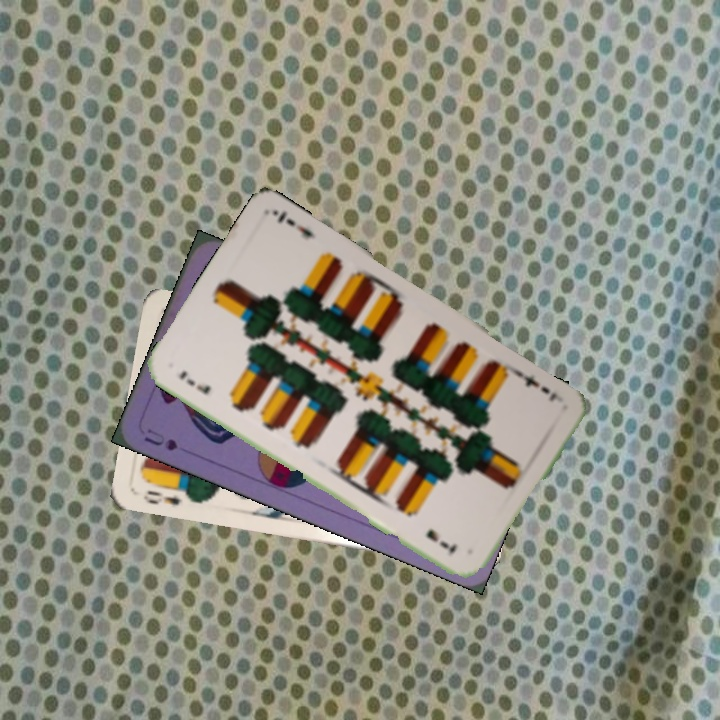E7: (512, 366, 560, 405), (175, 366, 213, 397)
EO: (139, 486, 183, 508)
SU: (140, 424, 181, 454)
